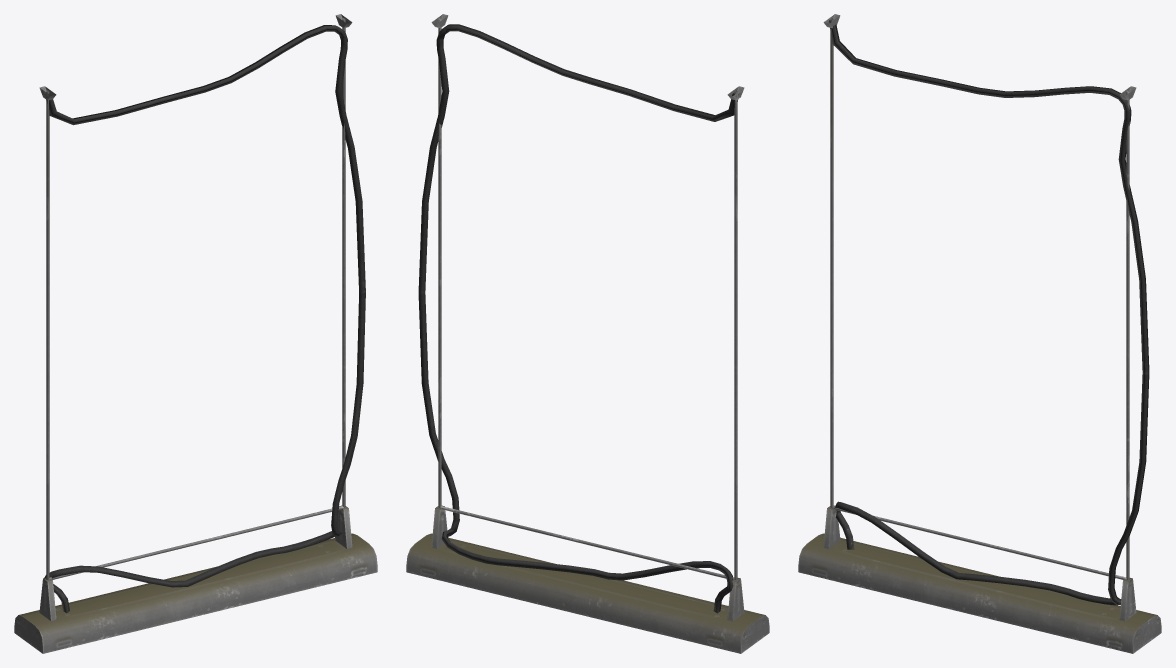
Rendered from SM_LampCeilingA_02.FBX.
3 renders of one model, left to right at view 1: azimuth 30°, elevation 25°; view 2: azimuth 150°, elevation 25°; view 3: azimuth 330°, elevation 25°, orthographic.
Visible parts, largest first — view 1: SM_LampCeilingA_02_LOD0; view 2: SM_LampCeilingA_02_LOD0; view 3: SM_LampCeilingA_02_LOD0.
Boxes of the visible parts, bbox=[...] form: SM_LampCeilingA_02_LOD0: bbox=[14, 14, 377, 653]; SM_LampCeilingA_02_LOD0: bbox=[406, 14, 769, 653]; SM_LampCeilingA_02_LOD0: bbox=[798, 14, 1161, 653].
Bounding box in the file's own units: 201 × 29.56 × 317.
